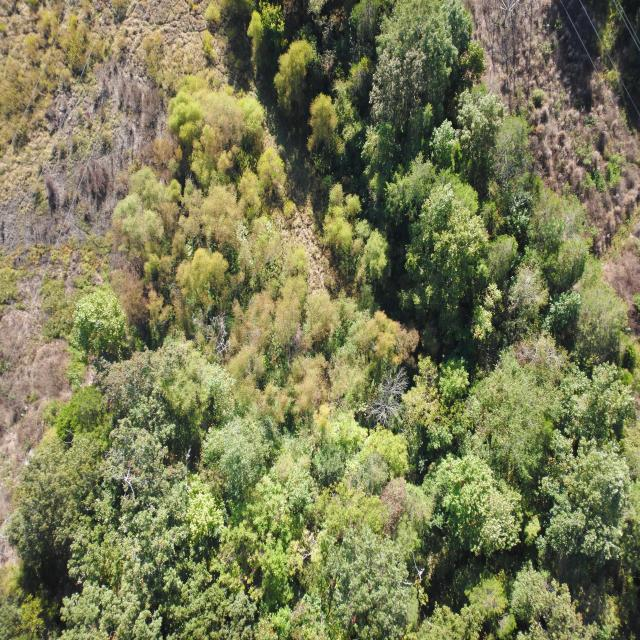Area of Interest: (18, 7, 638, 630)
